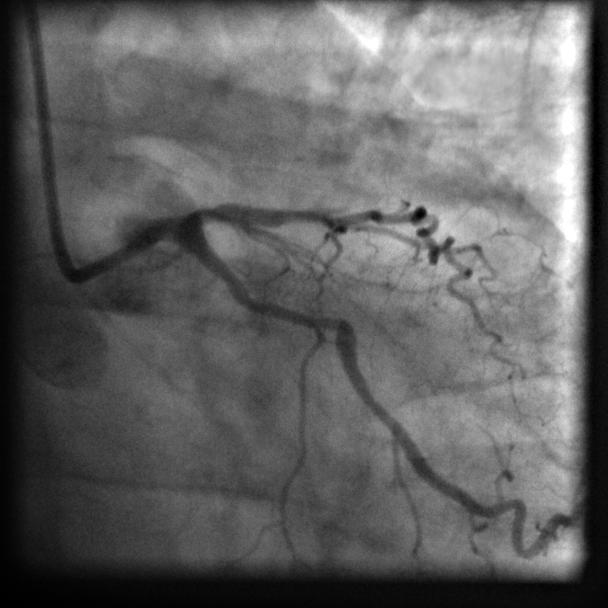Stenosis: (245, 285, 337, 339)
